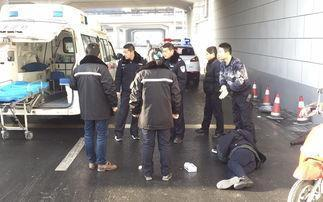Fall-Detected: (208, 120, 268, 190)
